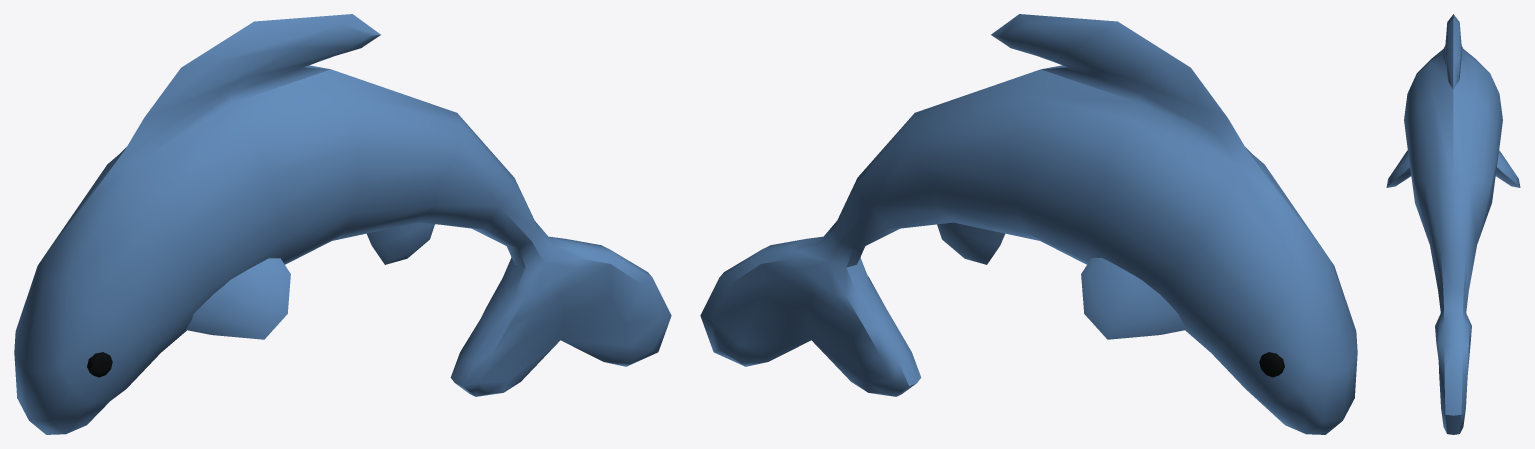
The model's file is fish_large_B.obj.
3 views of the same model, side by side, from view 1: azimuth 30°, elevation 25°; view 2: azimuth 150°, elevation 25°; view 3: azimuth 270°, elevation 25° (orthographic). The views are drawn at different scales.
Parts seen in each view (by area): view 1: fish_large_B_Plane.019; view 2: fish_large_B_Plane.019; view 3: fish_large_B_Plane.019.
Boxes of the visible parts, x1,y1,x2,y2 form: fish_large_B_Plane.019: (14, 14, 671, 434); fish_large_B_Plane.019: (700, 14, 1357, 434); fish_large_B_Plane.019: (1386, 14, 1520, 434).
Size of the model in its own units: 0.9666 by 0.6255 by 0.2599.
